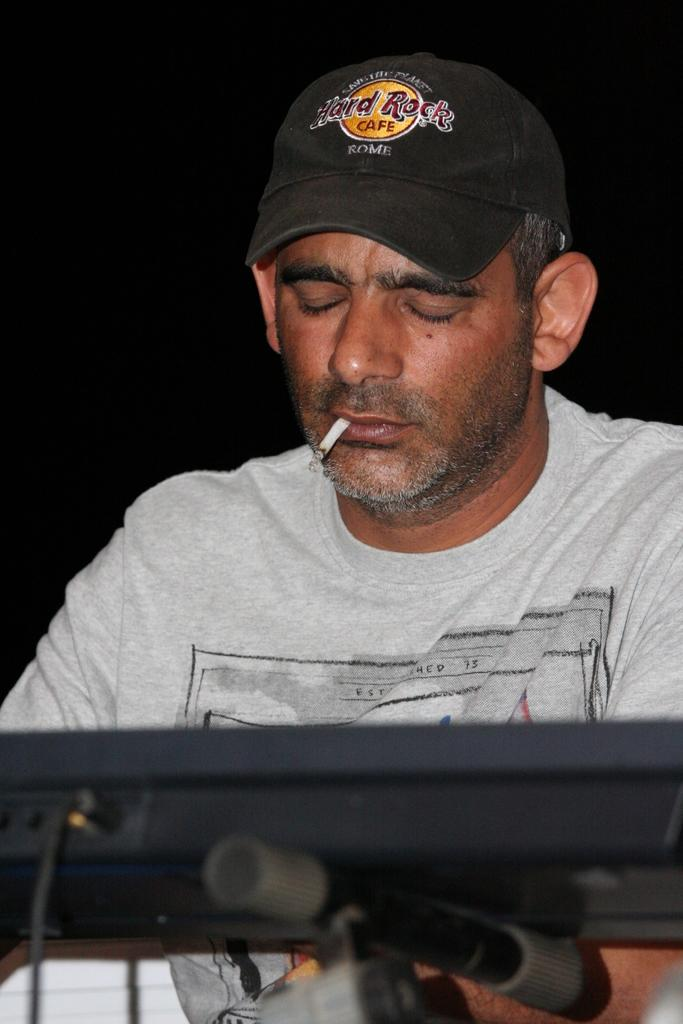Hat: (244, 54, 566, 282)
